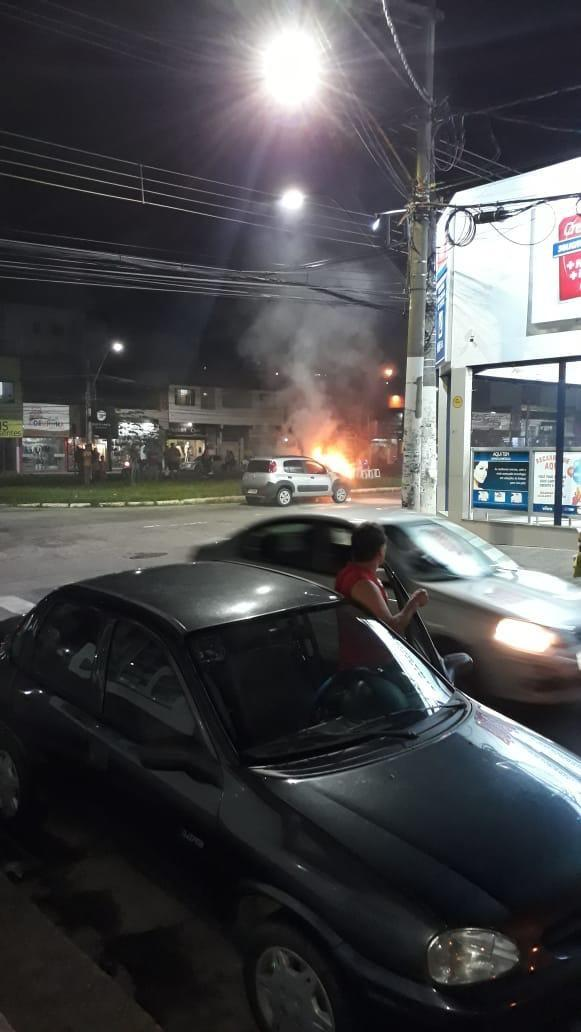fire: (310, 438, 353, 476)
